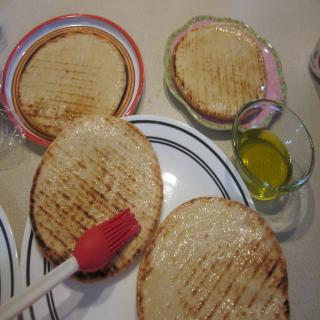Pancake: (22, 114, 166, 276), (136, 195, 290, 320), (15, 26, 126, 140), (172, 24, 268, 125)
